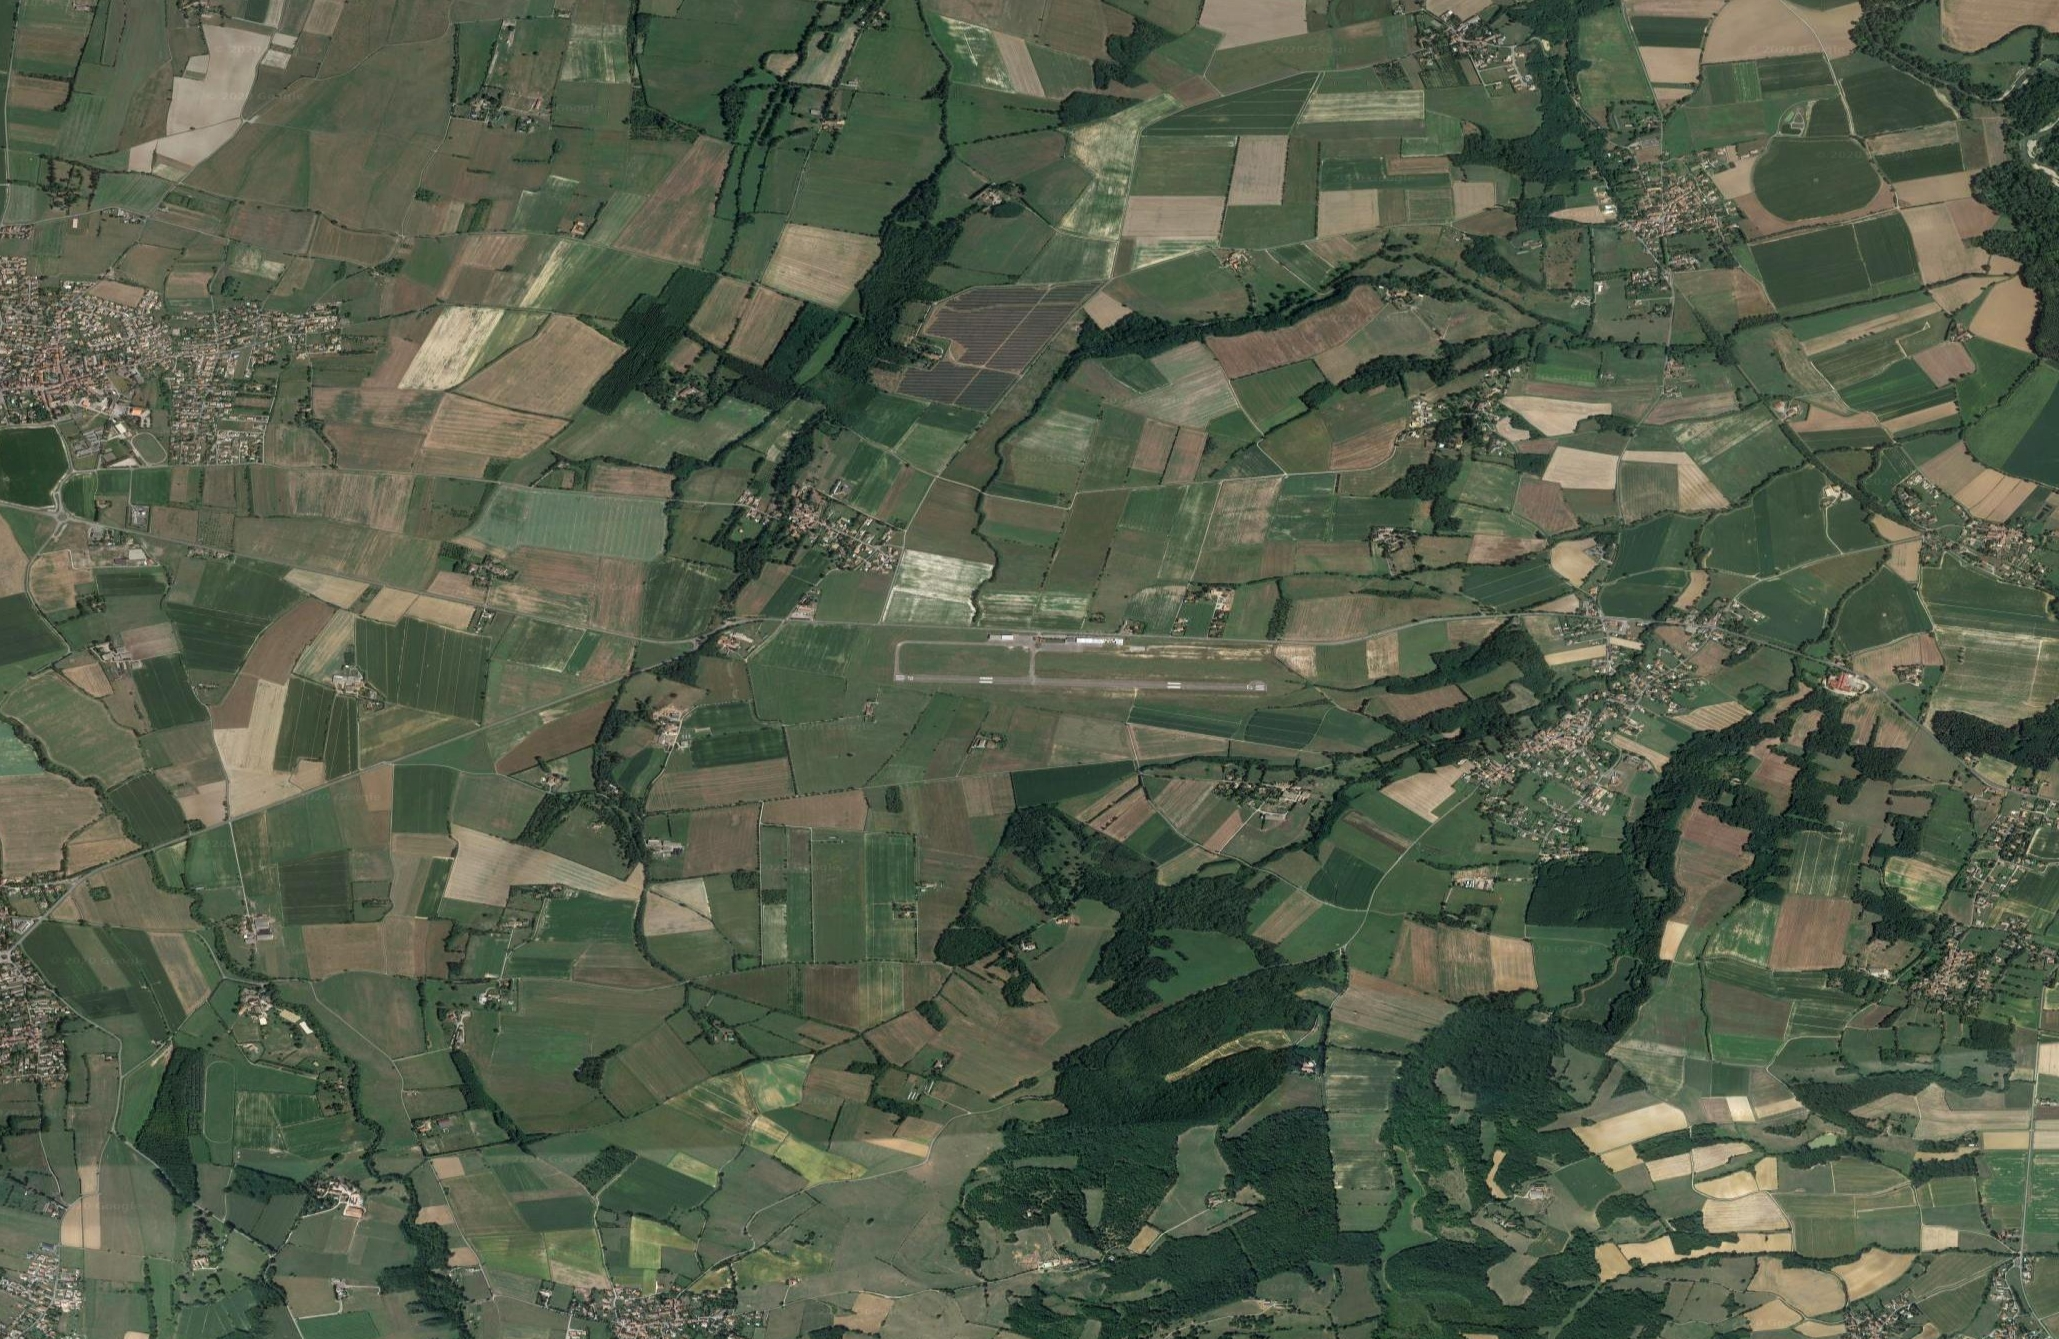airport: (890, 632, 1270, 695)
